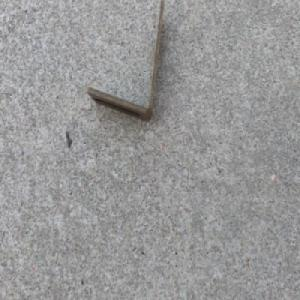MetalPart: (87, 0, 167, 124)
